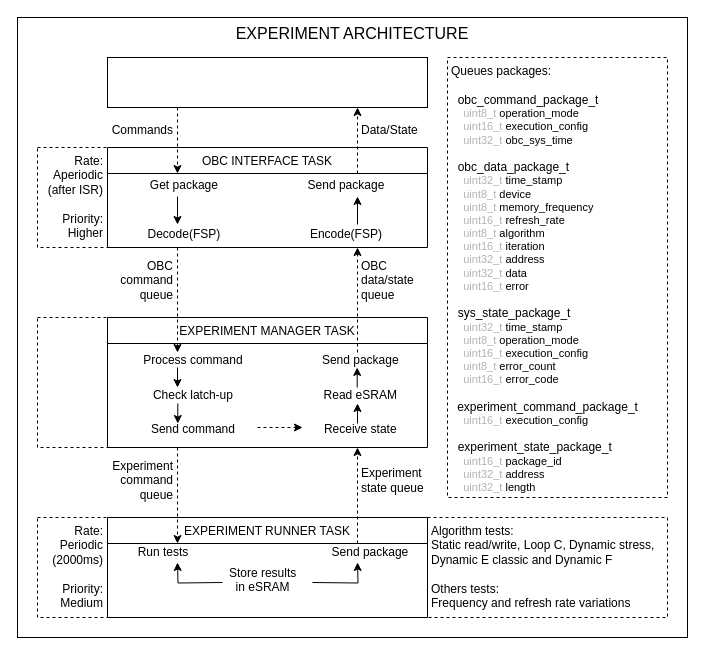
Some shapes in this 705 by 655 pixel diagram are drawn without their labels. The centre of each missing label's shape, as x and y in pixels:
"OBC BOARD SPI/I2C INTERFACES" belongs at point 267,82.
"Rate: Periodic (500ms) Priority: Medium" belongs at point 72,382.
